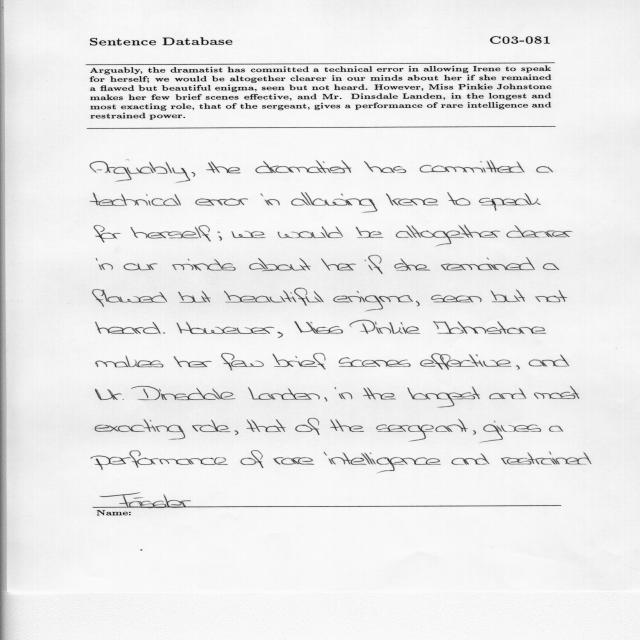word: (91, 451, 228, 471), (324, 452, 441, 473), (90, 160, 190, 183), (396, 225, 500, 247), (376, 419, 468, 441), (95, 419, 185, 440), (292, 192, 378, 213), (224, 288, 324, 306), (333, 291, 413, 312), (420, 353, 511, 370), (407, 387, 480, 408), (131, 386, 236, 400), (433, 321, 546, 334), (130, 225, 211, 242), (420, 160, 525, 173), (92, 289, 167, 307), (90, 192, 181, 206), (256, 160, 352, 173), (441, 257, 535, 270), (501, 452, 592, 465), (177, 322, 275, 334), (479, 193, 541, 211), (350, 320, 421, 334), (248, 387, 320, 400), (272, 353, 326, 369), (507, 225, 573, 238), (96, 356, 164, 368), (249, 258, 311, 271), (278, 226, 343, 238), (96, 322, 161, 334), (172, 259, 236, 271), (221, 353, 264, 370), (339, 357, 411, 367), (386, 193, 438, 206), (473, 421, 503, 443), (294, 321, 343, 334), (534, 386, 579, 399), (246, 419, 286, 432), (364, 161, 406, 173), (528, 355, 569, 367), (192, 420, 231, 432), (94, 225, 121, 242), (452, 453, 490, 465), (321, 258, 356, 271), (491, 290, 525, 303), (330, 419, 364, 432), (394, 259, 430, 271), (295, 418, 320, 435), (174, 357, 212, 368), (196, 198, 248, 206), (241, 450, 264, 468), (490, 388, 527, 399), (178, 291, 211, 303), (363, 388, 396, 400), (206, 162, 241, 173), (535, 290, 567, 302), (364, 255, 383, 274), (431, 295, 482, 302), (274, 457, 315, 465), (448, 192, 471, 206), (501, 424, 541, 432), (95, 389, 124, 400), (356, 227, 383, 238), (231, 231, 266, 238), (260, 194, 280, 206), (124, 264, 158, 271), (335, 387, 353, 399), (96, 258, 113, 270), (536, 166, 553, 173), (543, 263, 559, 270), (549, 426, 563, 432), (217, 232, 222, 241), (277, 332, 283, 338), (192, 172, 196, 177), (416, 301, 420, 306), (516, 365, 520, 370), (235, 430, 239, 435), (325, 397, 328, 402), (163, 332, 165, 334)
